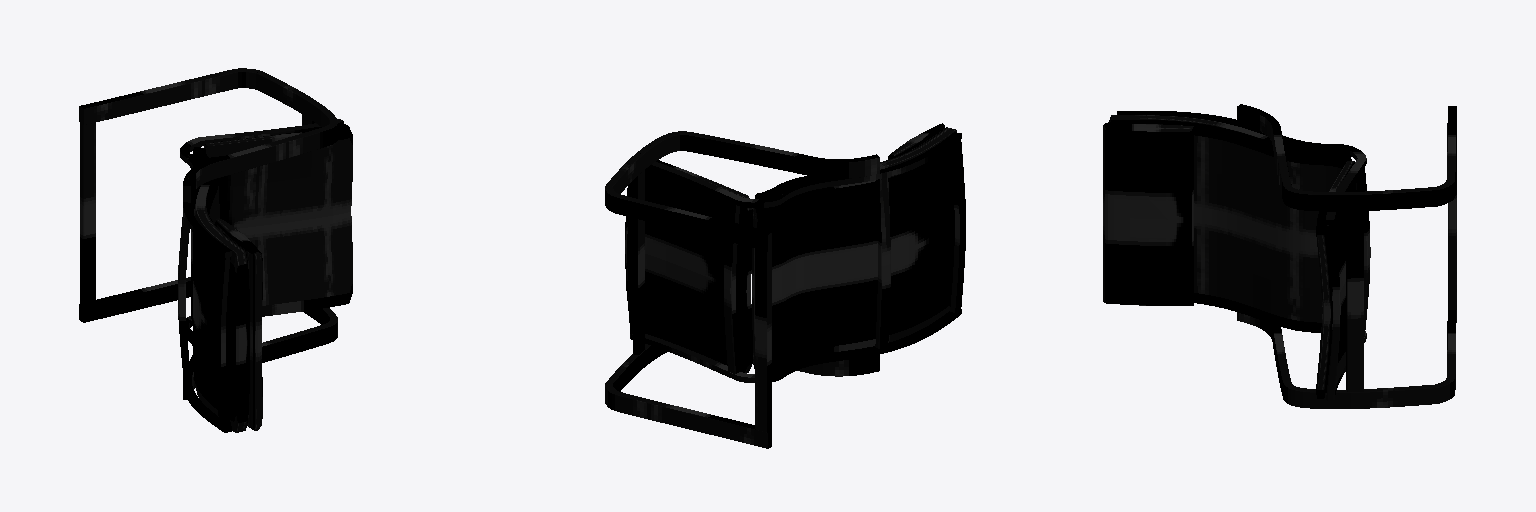
3 renders of one model, left to right at view 1: azimuth 30°, elevation 25°; view 2: azimuth 150°, elevation 25°; view 3: azimuth 270°, elevation 25°, orthographic.
Bounding box in the file's own units: 0.7974 × 0.6961 × 1.04.
Materials: 1 (1 with a texture image).